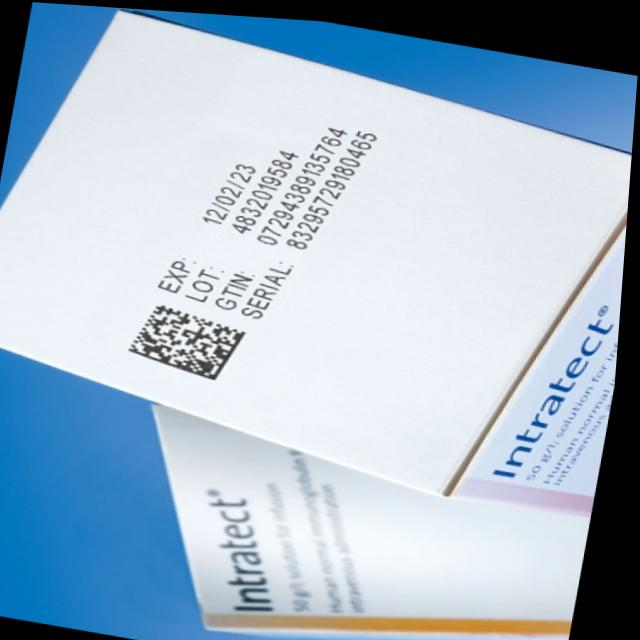datamatrix: (122, 295, 268, 387)
